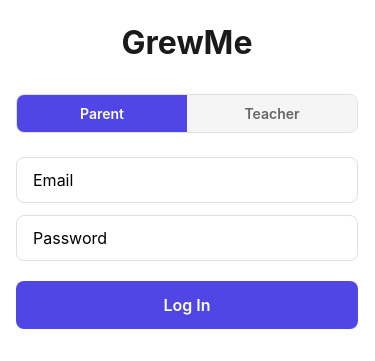
Scenario: LoginScreen › shows error message on failed login
The width and height of the screenshot is (375, 361).
In the field with test id "email-input": (187, 180) [16,157,358,203], type "bad@test.com"
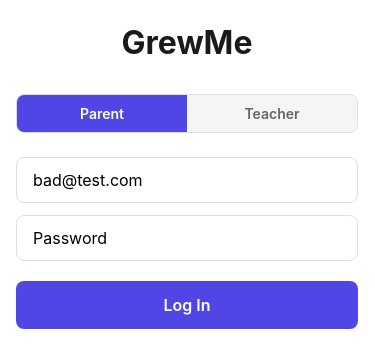
In the password field with test id "password-input": (187, 238) [16,215,358,261], type "wrong"
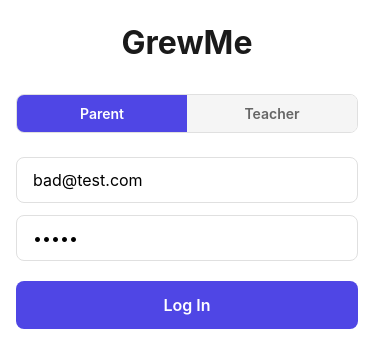
Click the element with test id "login-button": (187, 305) [16,281,358,329]
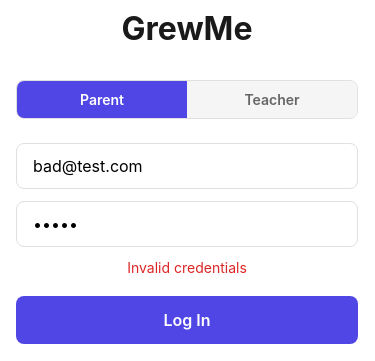
Check: the text with test id "error-message" reads "Invalid credentials", box [127,258,247,276]
